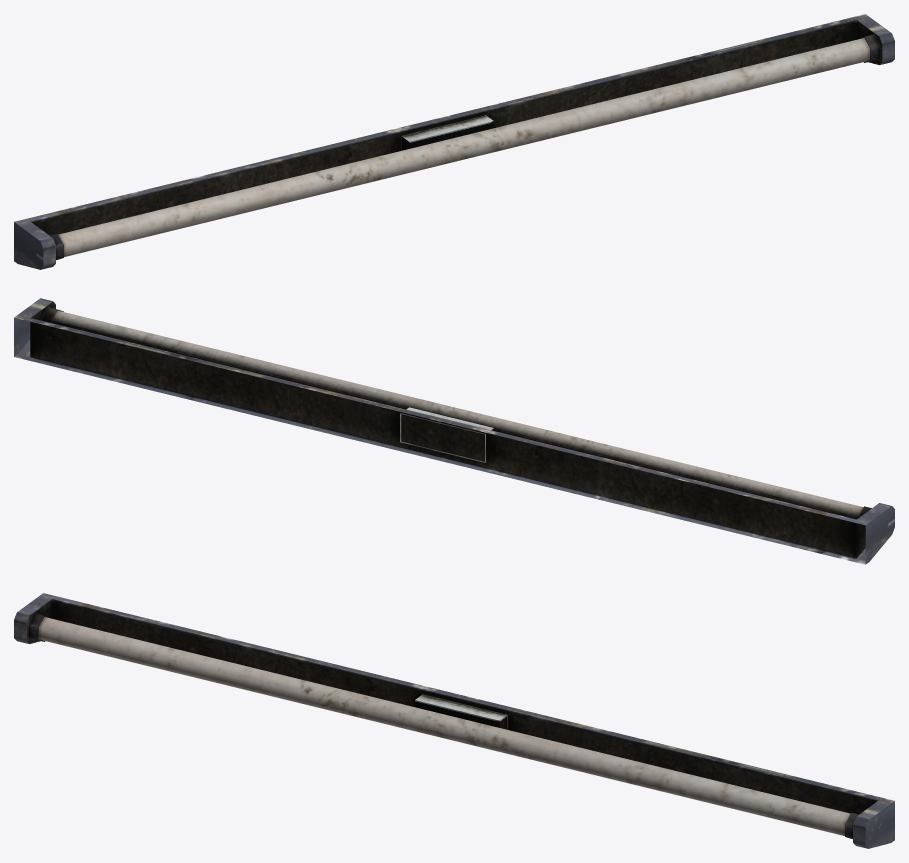
File: TubeLight_On.FBX
The picture shows the model from 3 angles, top to bottom: view 1: azimuth 30°, elevation 25°; view 2: azimuth 150°, elevation 25°; view 3: azimuth 330°, elevation 25°; orthographic projection.
Parts seen in each view (by area): view 1: TubeLight_On; view 2: TubeLight_On; view 3: TubeLight_On.
Boxes of the visible parts, x1,y1,x2,y2 form: TubeLight_On: (14, 14, 894, 269); TubeLight_On: (14, 298, 894, 564); TubeLight_On: (14, 593, 894, 848).
Bounding box in the file's own units: 171 × 7.55 × 10.2.
Materials: 2 (2 with a texture image).
